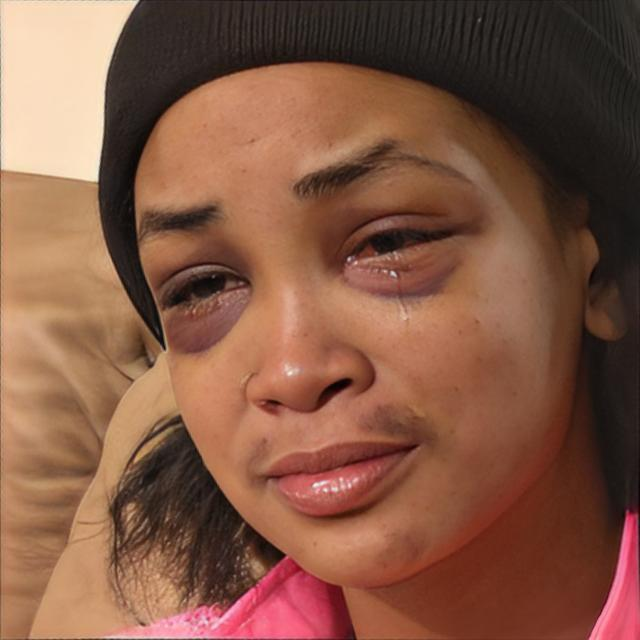sad: (128, 61, 580, 594)
